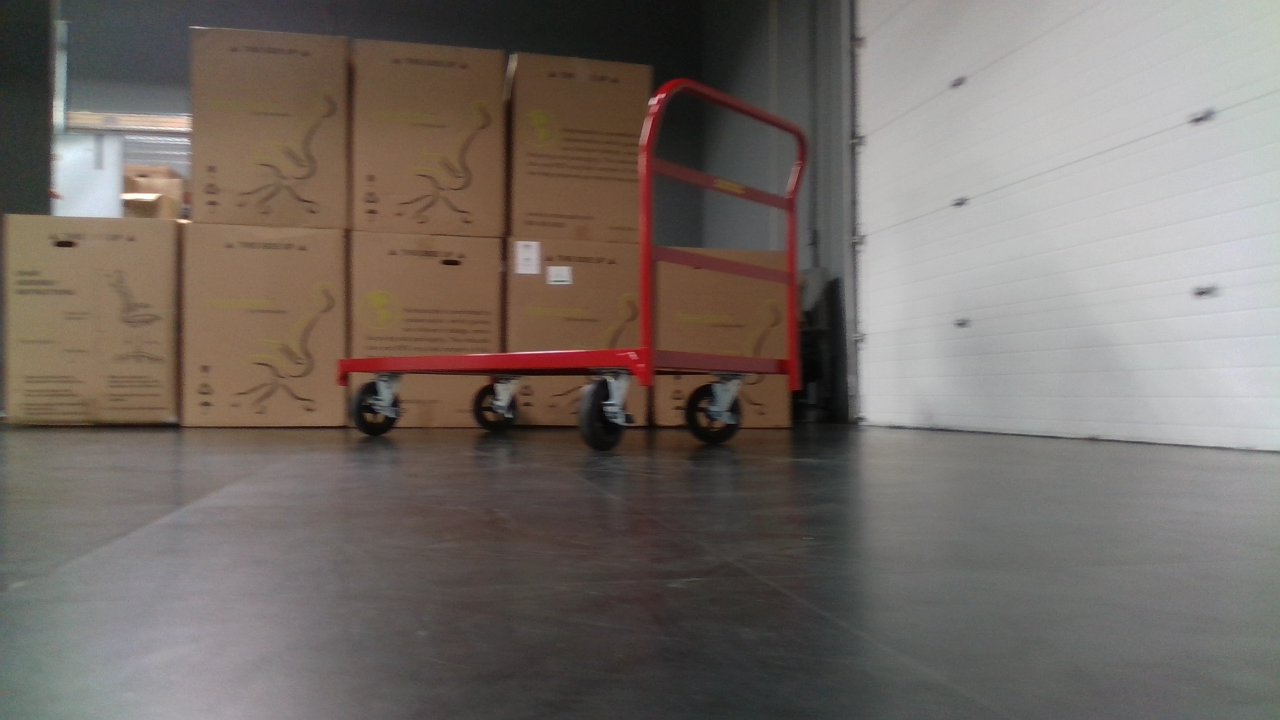Dolly: (330, 72, 818, 454)
Wheel: (572, 375, 636, 450), (680, 379, 748, 445), (344, 378, 404, 436), (470, 379, 522, 431)
